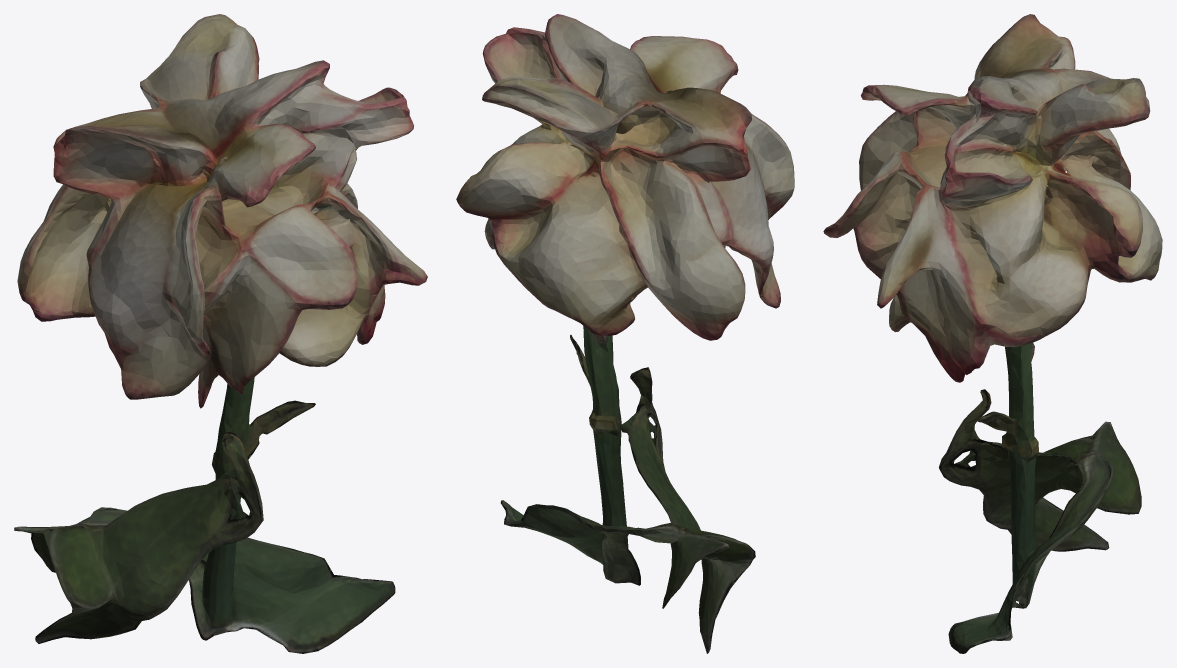
3 views of the same model, side by side, from view 1: azimuth 30°, elevation 25°; view 2: azimuth 150°, elevation 25°; view 3: azimuth 270°, elevation 25° (orthographic). The views are drawn at different scales.
Parts seen in each view (by area): view 1: world; view 2: world; view 3: world.
Boxes of the visible parts, x1,y1,x2,y2 form: world: [14, 14, 427, 653]; world: [456, 14, 794, 653]; world: [823, 14, 1162, 653].
Bounding box in the file's own units: 0.5705 × 0.9658 × 0.5274.
1 material, 1 textured.
